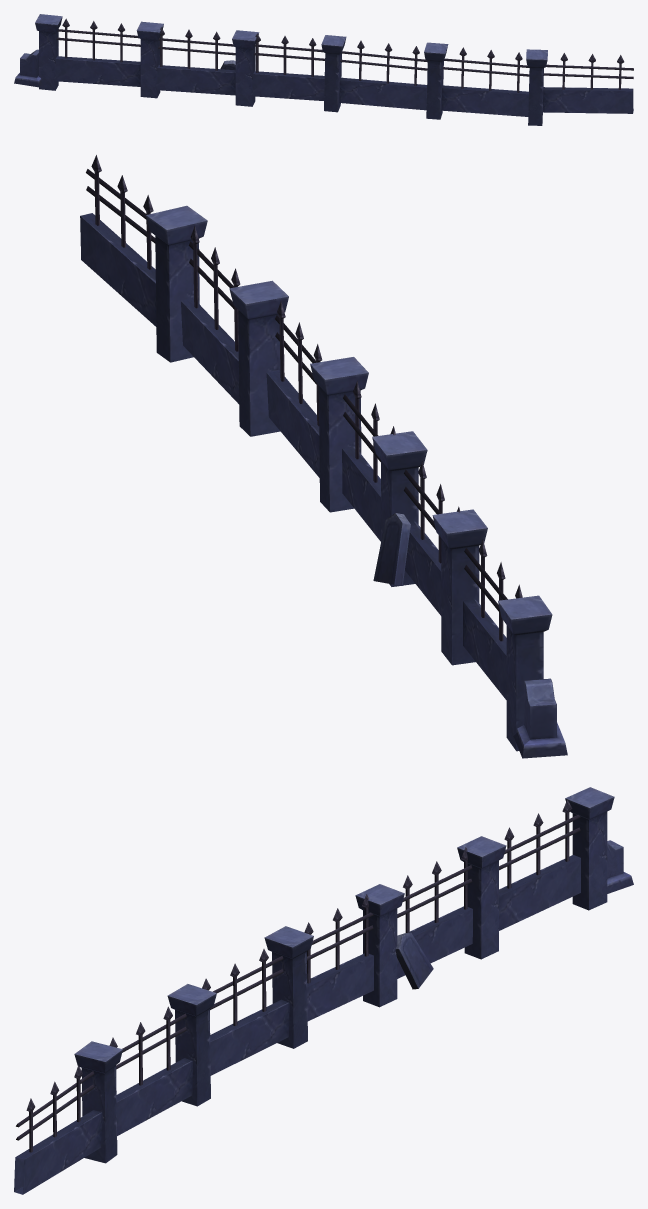
Rendered from Area10_21.fbx.
The picture shows the model from 3 angles, top to bottom: view 1: azimuth 30°, elevation 25°; view 2: azimuth 150°, elevation 25°; view 3: azimuth 270°, elevation 25°; orthographic projection. The views are drawn at different scales.
Parts seen in each view (by area): view 1: Area10_21; view 2: Area10_21; view 3: Area10_21.
Part boxes in pixels (x1,y1,x2,y2): Area10_21: (14,14,633,125); Area10_21: (80,155,567,758); Area10_21: (14,787,633,1194).
Bounding box in the file's own units: 3992 × 654 × 3177.
